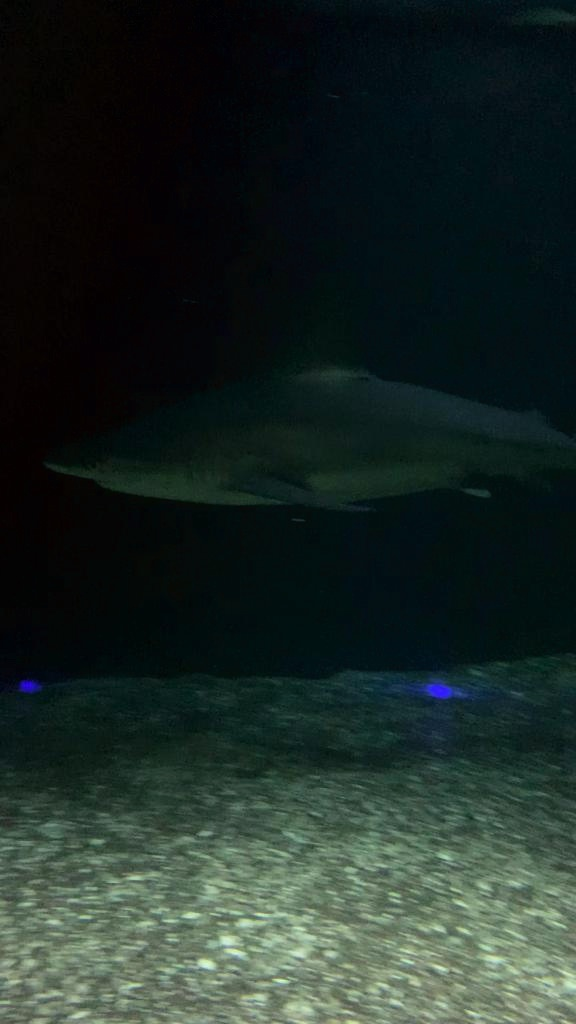shark: (40, 300, 574, 512)
